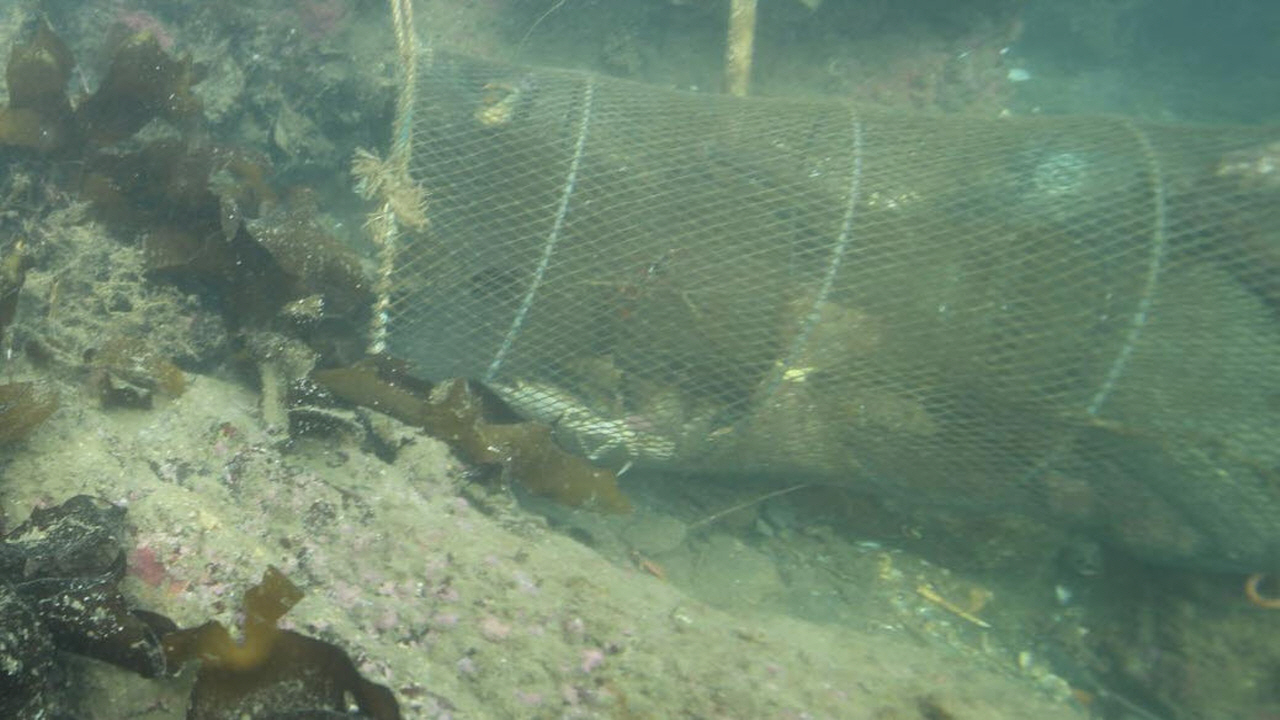bundle of ropes: (387, 0, 418, 44)
spring fish trap: (366, 42, 1280, 571)
